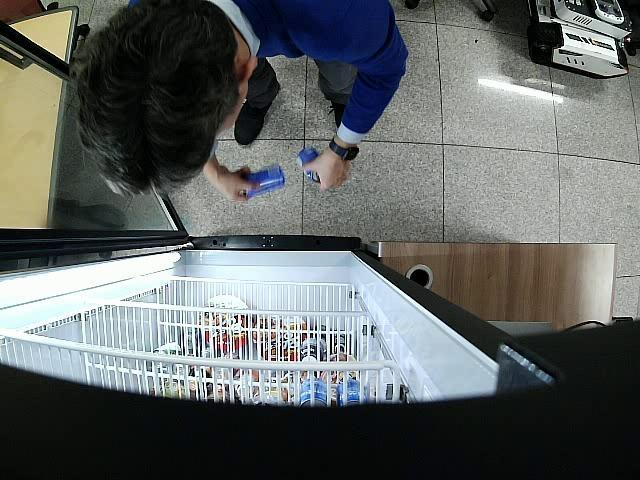13_pocariSweat: (243, 165, 285, 198), (296, 148, 320, 182)
